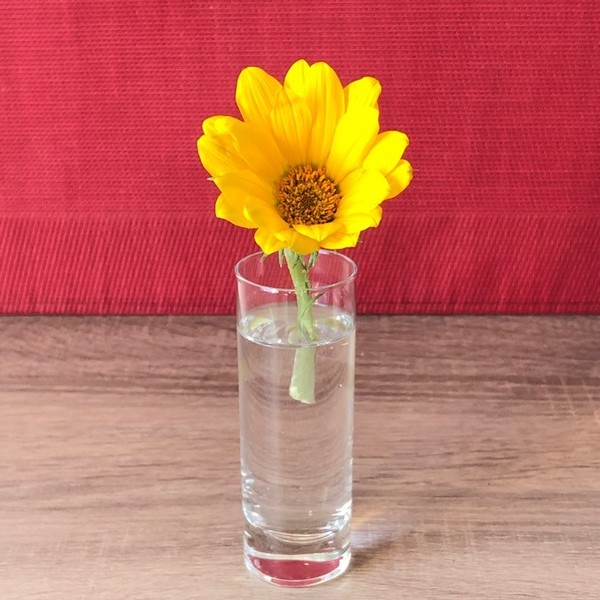obstacle: (200, 35, 422, 586)
